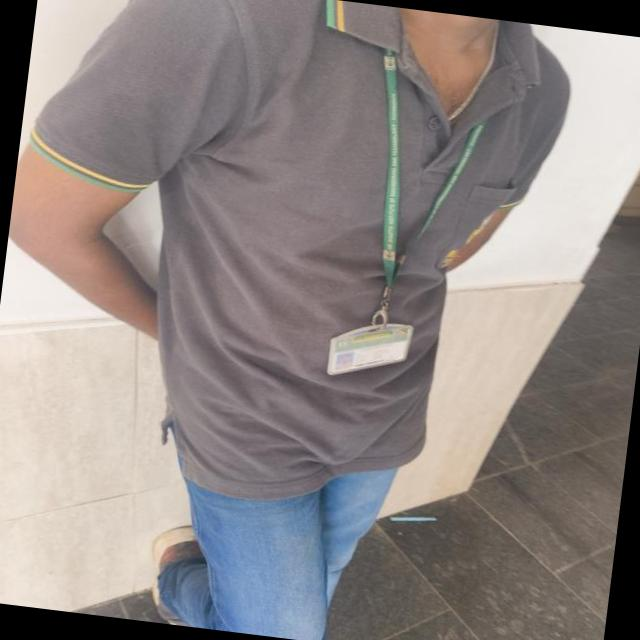id_card: (320, 49, 474, 388)
